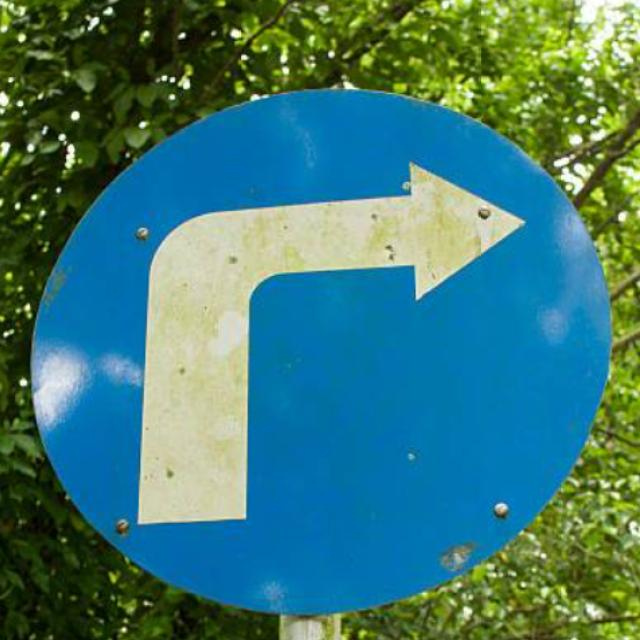RIGHT: (31, 89, 610, 615)
